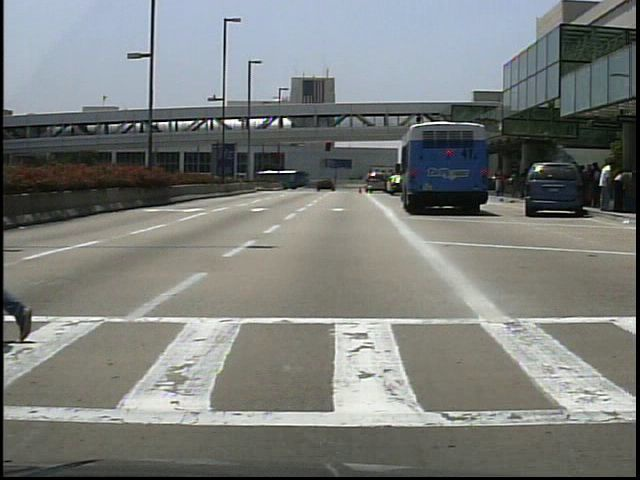person: (598, 159, 618, 212), (589, 160, 606, 211)
